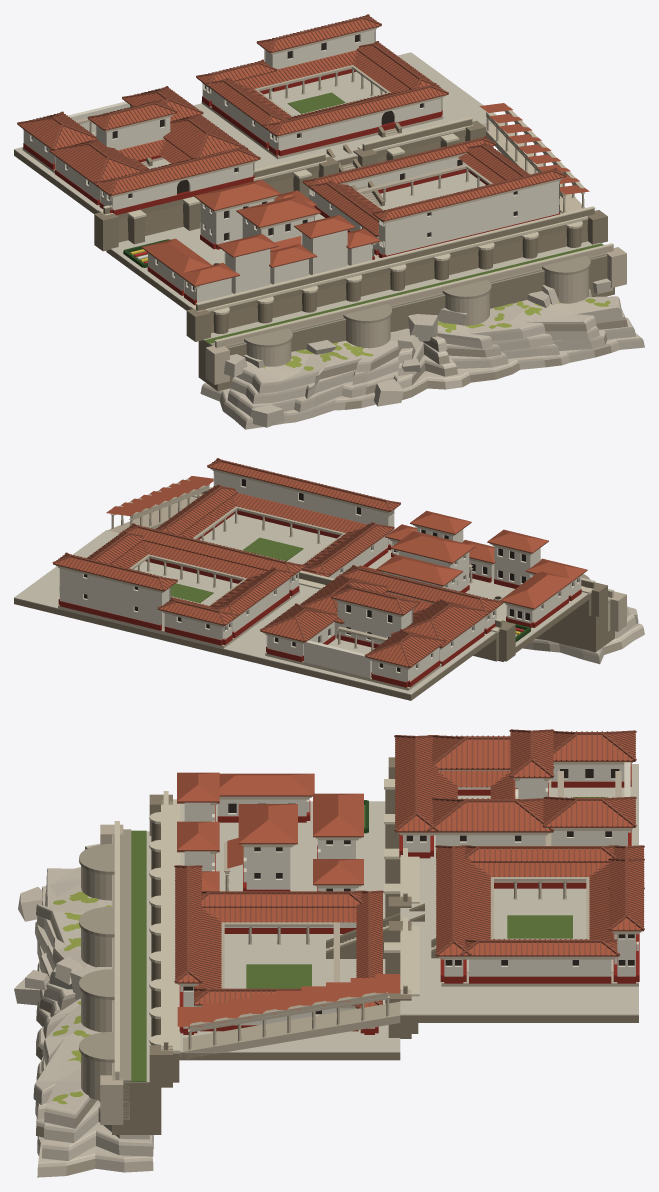
File: rome_domus_augusti.glb
The picture shows the model from 3 angles, top to bottom: view 1: azimuth 30°, elevation 25°; view 2: azimuth 150°, elevation 25°; view 3: azimuth 270°, elevation 25°; orthographic projection. The views are drawn at different scales.
Parts seen in each view (by area): view 1: rome_domus_augusti; view 2: rome_domus_augusti; view 3: rome_domus_augusti.
Boxes of the visible parts, x1,y1,x2,y2 form: rome_domus_augusti: [14, 14, 644, 429]; rome_domus_augusti: [14, 458, 644, 700]; rome_domus_augusti: [14, 729, 644, 1177].
Size of the model in its own units: 74.8 by 30.84 by 76.62.
